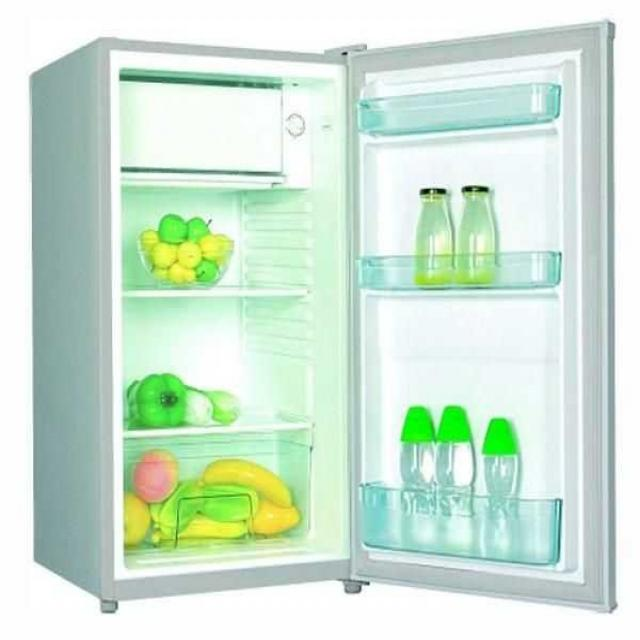refrigerator: (100, 40, 591, 588)
